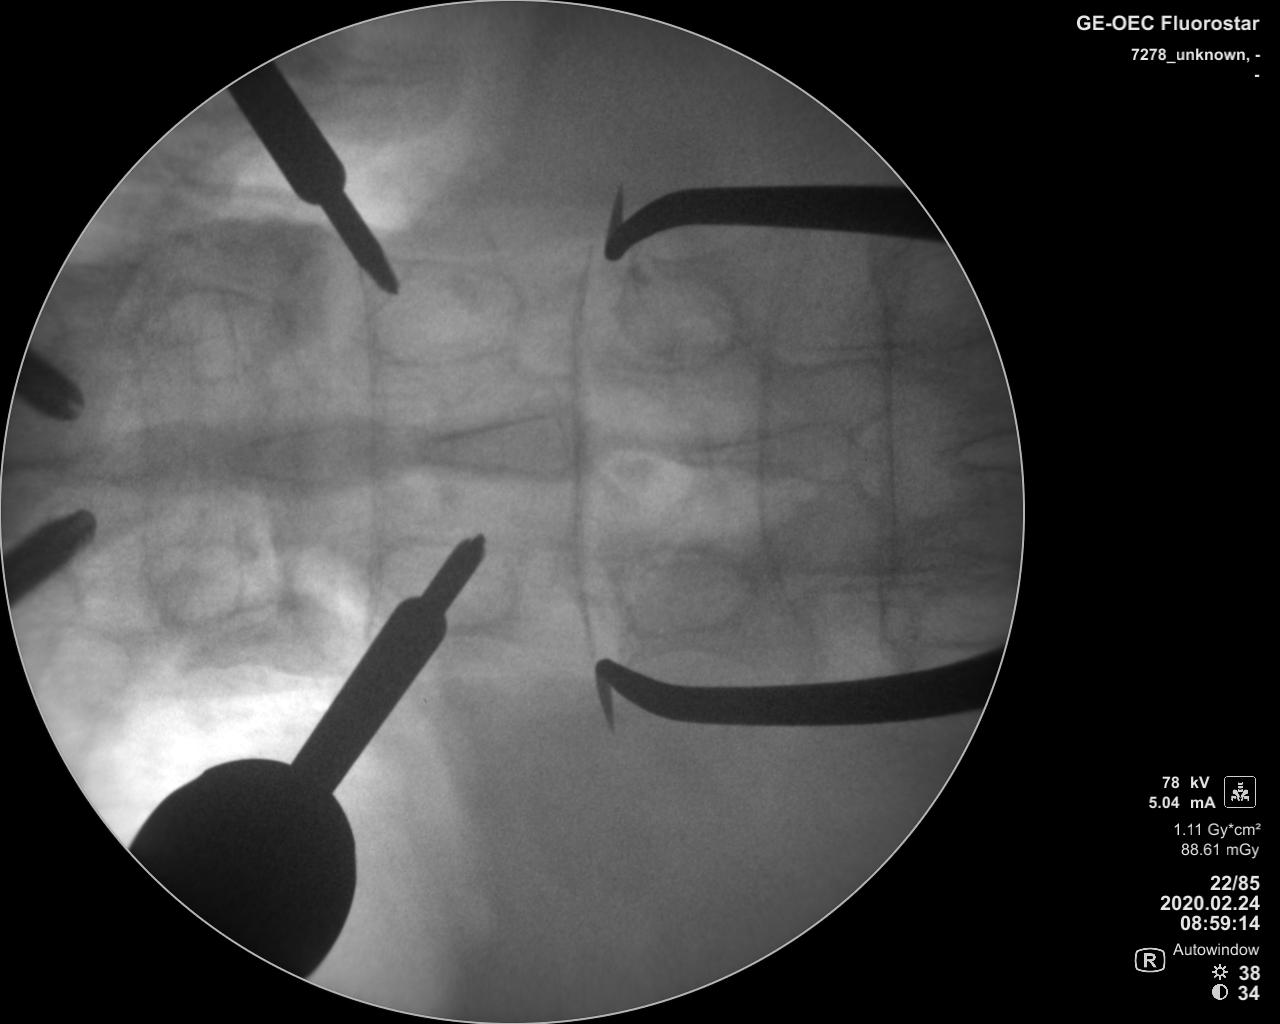eyes: (365, 264, 521, 367), (374, 536, 519, 632), (608, 541, 755, 635), (618, 258, 740, 368), (159, 282, 294, 379), (140, 537, 247, 626)
line: (751, 266, 792, 612), (569, 238, 598, 657), (868, 274, 901, 635), (356, 312, 387, 581)
nose: (31, 419, 236, 494), (228, 415, 418, 488), (683, 417, 862, 491), (415, 412, 592, 481)
